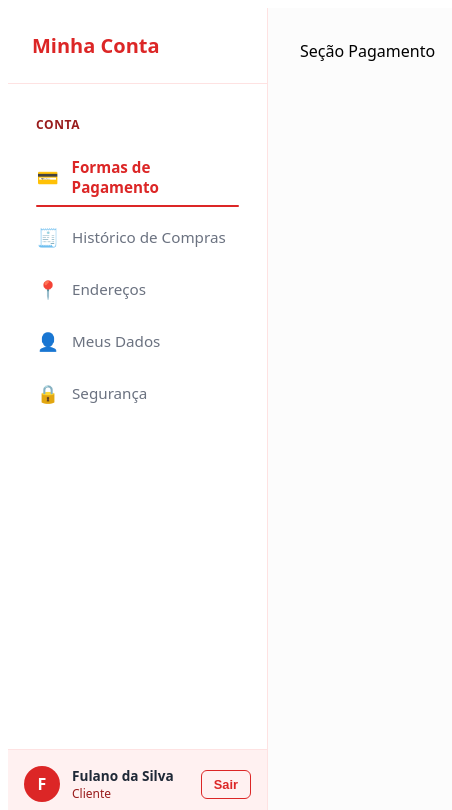
Test: Perfil › clicar em cada item do menu navega pra URL daquela seção
This screenshot has width=452, height=810.
Click the text "Histórico de Compras" at (149, 237), box [72,227,226,247]
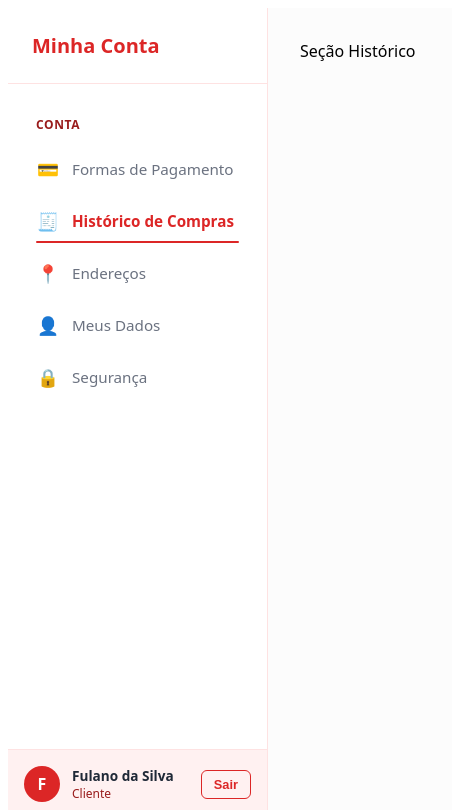
Result: the text "Seção Histórico" is shown at [300,40,416,62]
Click the text "Endereços" at (109, 273), box [72,263,146,283]
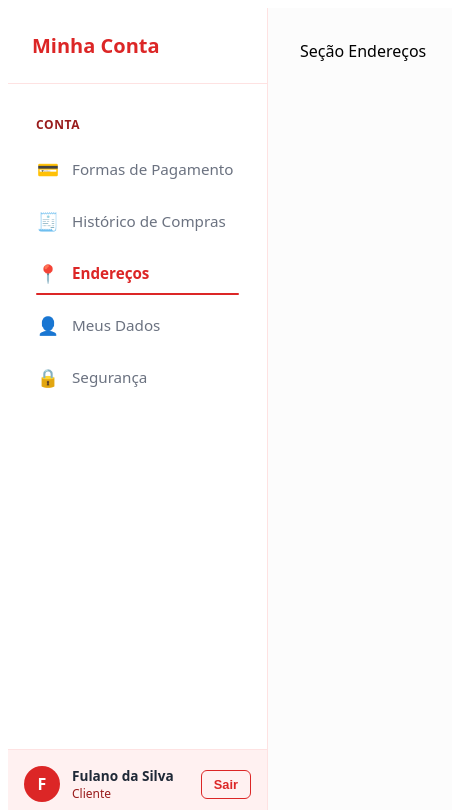
Result: the text "Seção Endereços" is shown at [300,40,426,62]
Click the text "Meus Dados" at (116, 325), box [72,315,160,335]
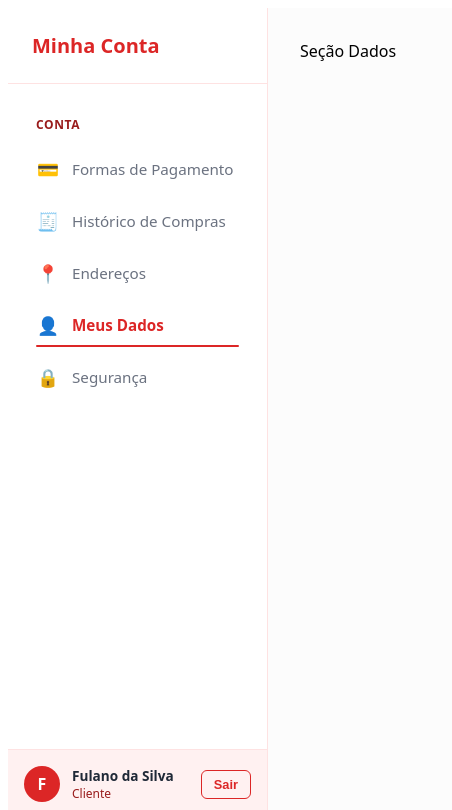
Result: the text "Seção Dados" is shown at [300,40,396,62]
Click the text "Segurança" at (110, 377), box [72,367,147,387]
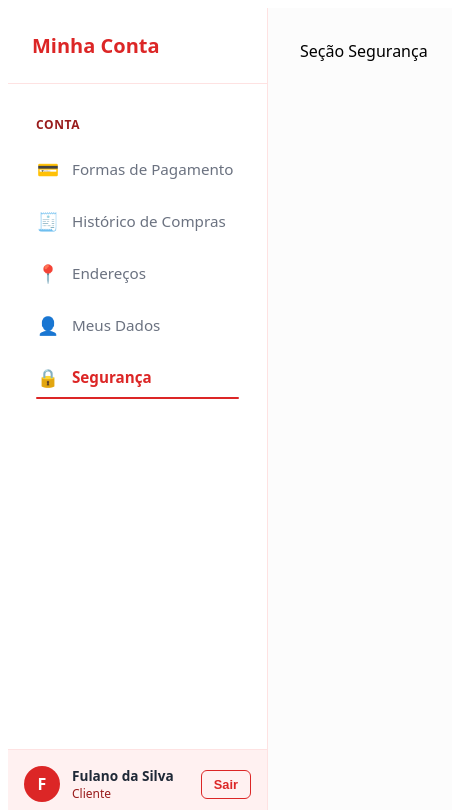
Result: the text "Seção Segurança" is shown at [300,40,428,62]
